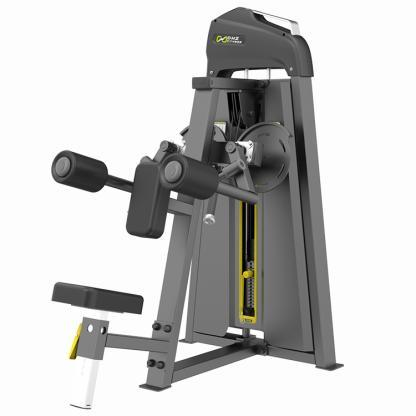lateral raises machine: (51, 6, 344, 409)
